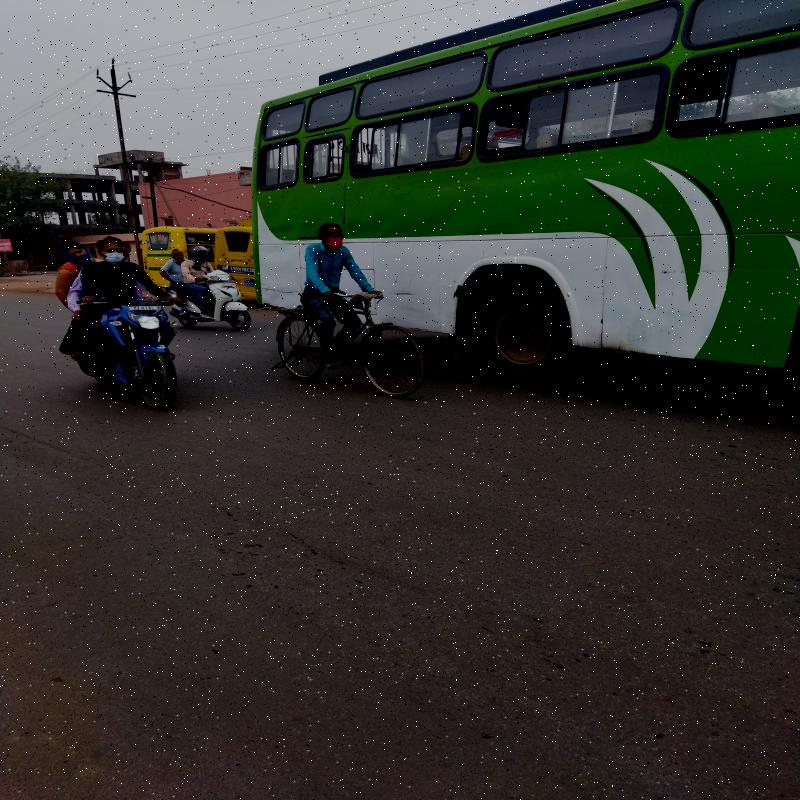bus: (244, 32, 800, 414)
